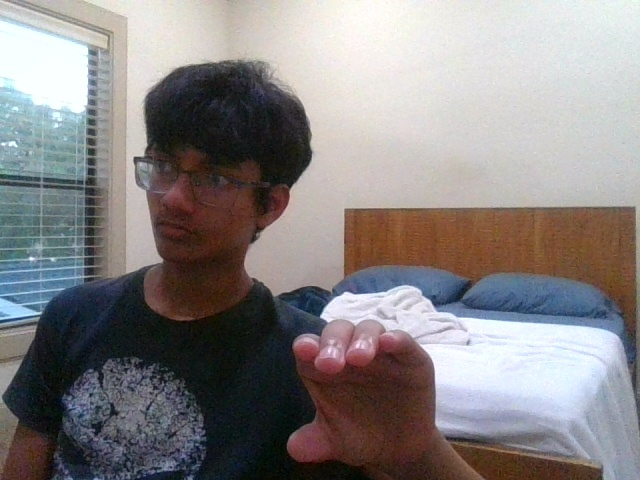no: (287, 320, 436, 461)
